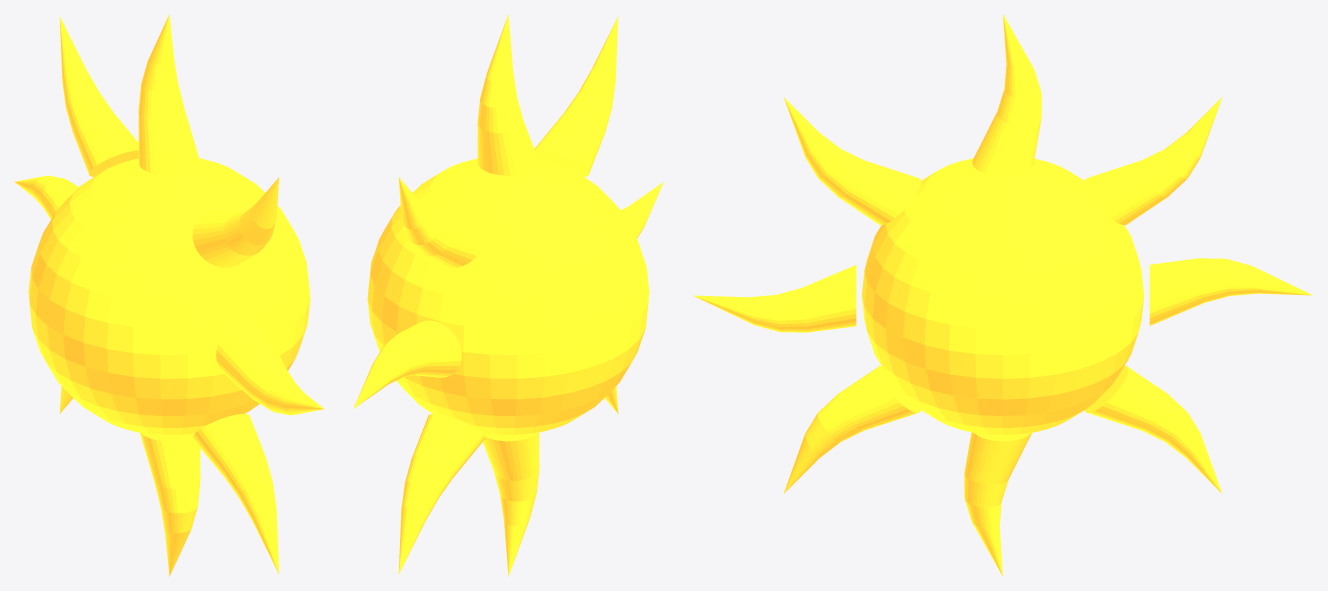
File: sun.glb
3 renders of one model, left to right at view 1: azimuth 30°, elevation 25°; view 2: azimuth 150°, elevation 25°; view 3: azimuth 270°, elevation 25°, orthographic.
Visible parts, largest first — view 1: Cone.001; view 2: Cone.001; view 3: Cone.001.
Part boxes in pixels (bbox=[...]): Cone.001: bbox=[14, 14, 324, 576]; Cone.001: bbox=[353, 14, 663, 576]; Cone.001: bbox=[693, 14, 1312, 576].
Bounding box in the file's own units: 2 × 4.4 × 4.4.
